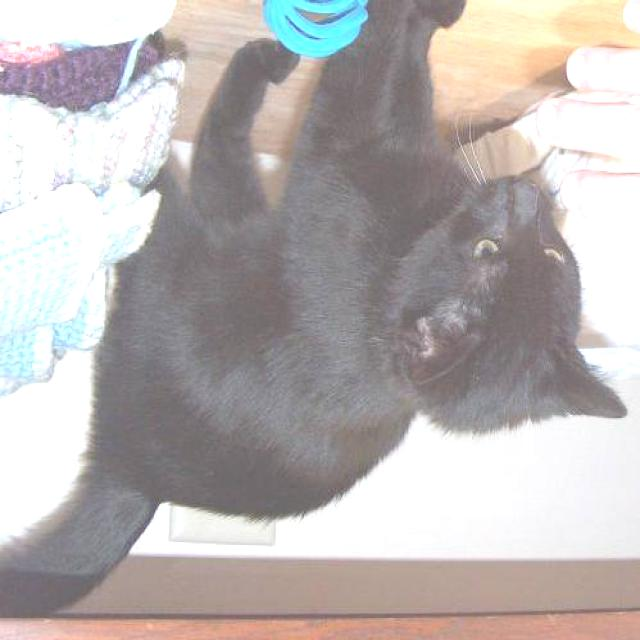Kucing: (19, 70, 636, 570)
